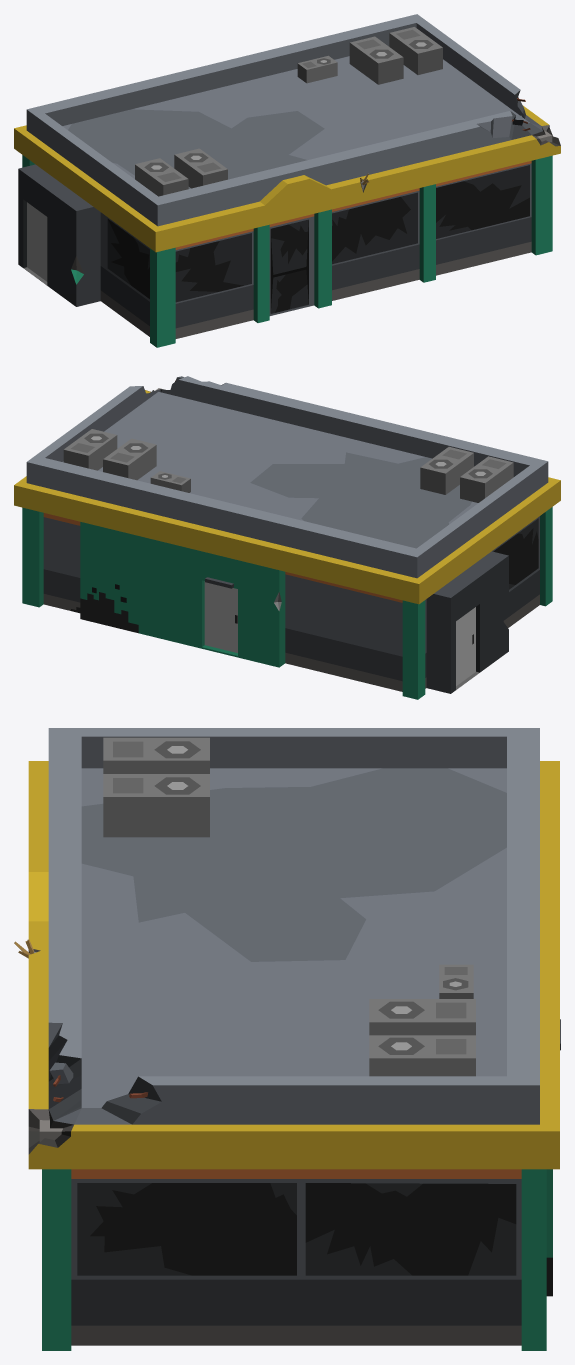
File: SA_Bld_ShopOld_Damaged_02.gltf
3 views of the same model, one above another, from view 1: azimuth 30°, elevation 25°; view 2: azimuth 150°, elevation 25°; view 3: azimuth 270°, elevation 25° (orthographic). The views are drawn at different scales.
Visible parts, largest first — view 1: SA_Bld_ShopOld_Damaged_02; view 2: SA_Bld_ShopOld_Damaged_02; view 3: SA_Bld_ShopOld_Damaged_02.
Part boxes in pixels (x1,y1,x2,y2): SA_Bld_ShopOld_Damaged_02: [14, 14, 560, 347]; SA_Bld_ShopOld_Damaged_02: [14, 376, 560, 699]; SA_Bld_ShopOld_Damaged_02: [14, 728, 560, 1350].
Size of the model in its own units: 23.18 by 7.7 by 13.99.
Materials: 1 (1 with a texture image).
